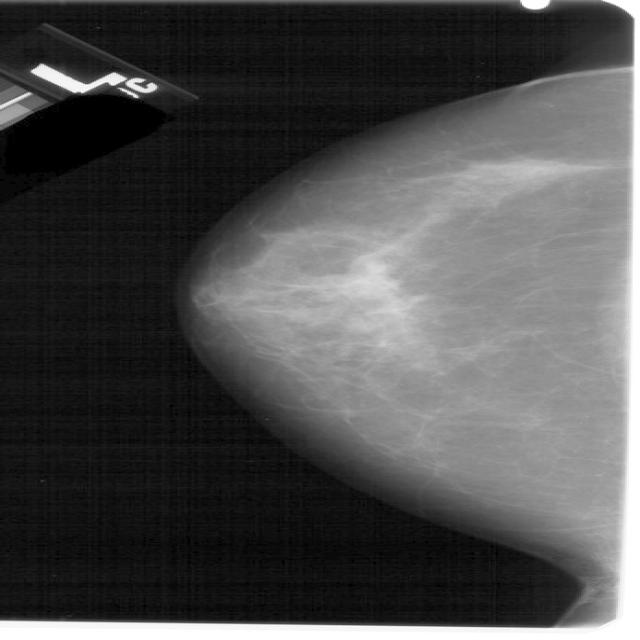tumour: (308, 247, 404, 305)
